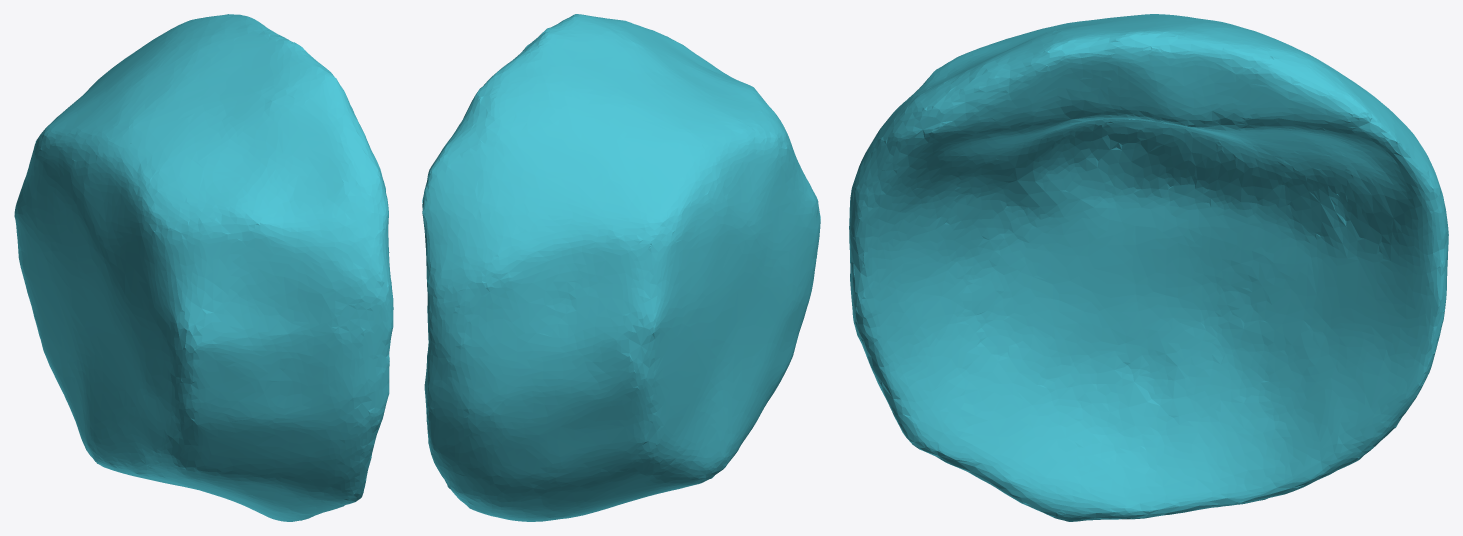
The picture shows the model from 3 angles, left to right: view 1: azimuth 30°, elevation 25°; view 2: azimuth 150°, elevation 25°; view 3: azimuth 270°, elevation 25°; orthographic projection. The views are drawn at different scales.
Parts seen in each view (by area): view 1: Renderer Node; view 2: Renderer Node; view 3: Renderer Node.
Part boxes in pixels (box(x1,y1,x2,y2)): Renderer Node: box(14, 14, 393, 521); Renderer Node: box(422, 14, 820, 521); Renderer Node: box(849, 14, 1448, 521).
Bounding box in the file's own units: 0.2762 × 0.5614 × 0.6037.
Materials: 1 (1 with a texture image).
